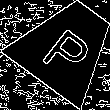P_NE: (36, 15, 98, 77)
